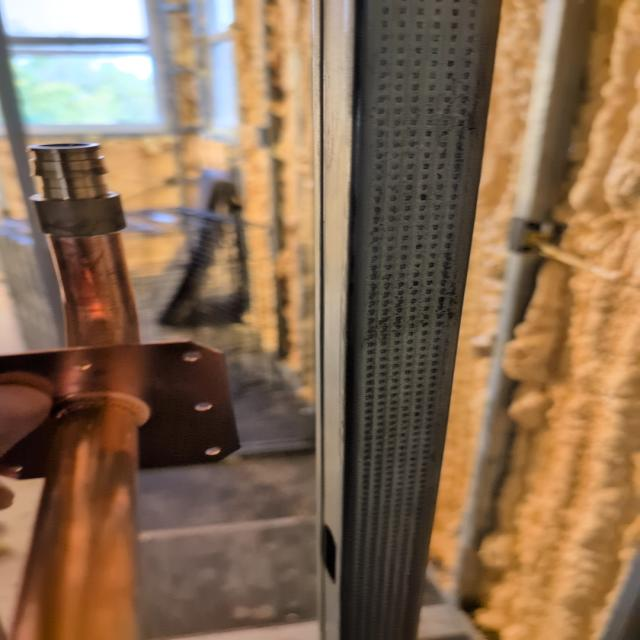wall_flange: (0, 129, 255, 640)
